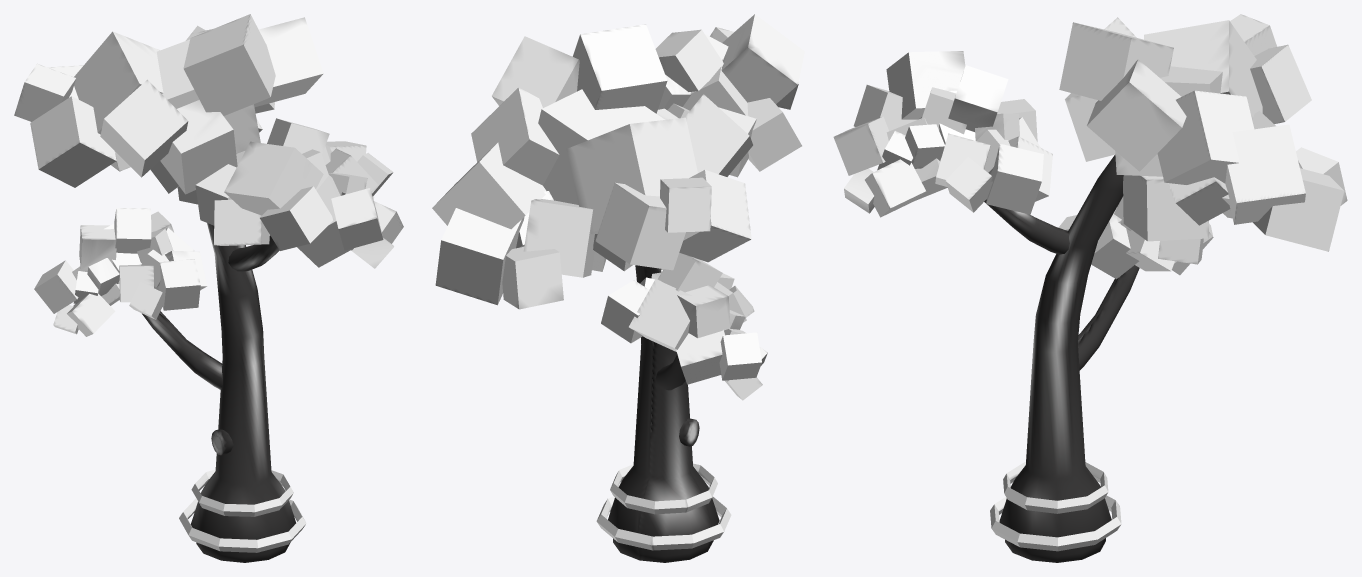
The model's file is LIGHT_TREE1.FBX.
3 renders of one model, left to right at view 1: azimuth 30°, elevation 25°; view 2: azimuth 150°, elevation 25°; view 3: azimuth 270°, elevation 25°, orthographic. The views are drawn at different scales.
Visible parts, largest first — view 1: LIGHT_TREE1; view 2: LIGHT_TREE1; view 3: LIGHT_TREE1.
Part boxes in pixels (x1,y1,x2,y2): LIGHT_TREE1: (14,14,403,562); LIGHT_TREE1: (432,14,804,562); LIGHT_TREE1: (833,14,1347,562).
Bounding box in the file's own units: 230 × 413 × 366.
